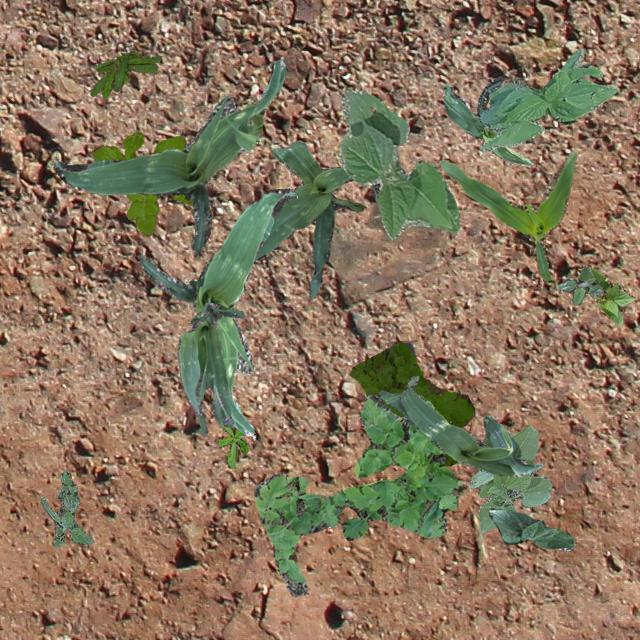crop: (53, 56, 284, 256), (138, 188, 294, 436), (252, 138, 380, 298), (338, 88, 458, 240), (438, 152, 576, 280), (378, 374, 534, 476), (478, 48, 616, 152), (466, 424, 550, 534), (176, 300, 243, 436), (442, 76, 532, 166), (488, 506, 574, 550), (588, 266, 634, 324)
weed: (253, 392, 462, 596), (348, 340, 474, 466), (90, 130, 192, 236), (38, 468, 92, 546), (90, 49, 160, 98), (556, 266, 602, 304), (215, 422, 248, 466)
